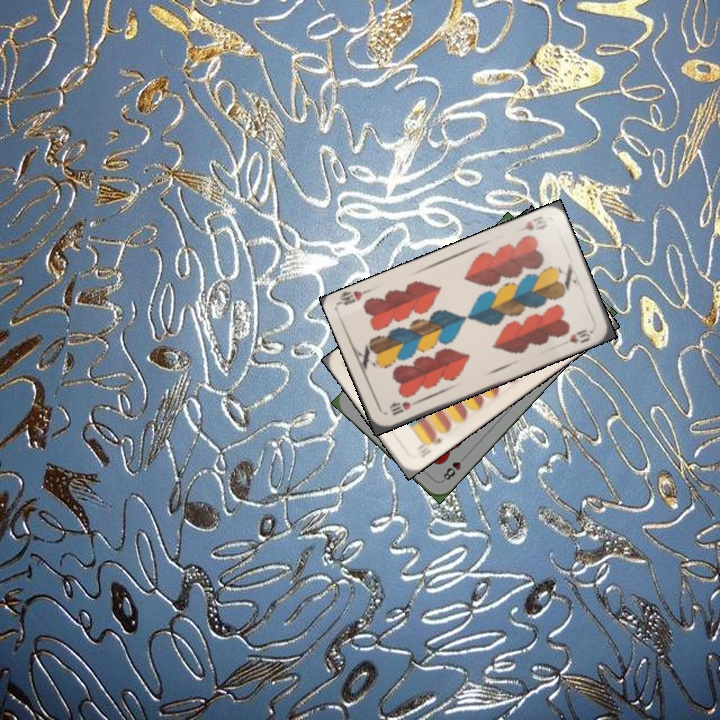E10: (417, 430, 444, 460)
H10: (512, 212, 545, 236), (386, 396, 421, 418)
H8: (438, 451, 469, 484)
